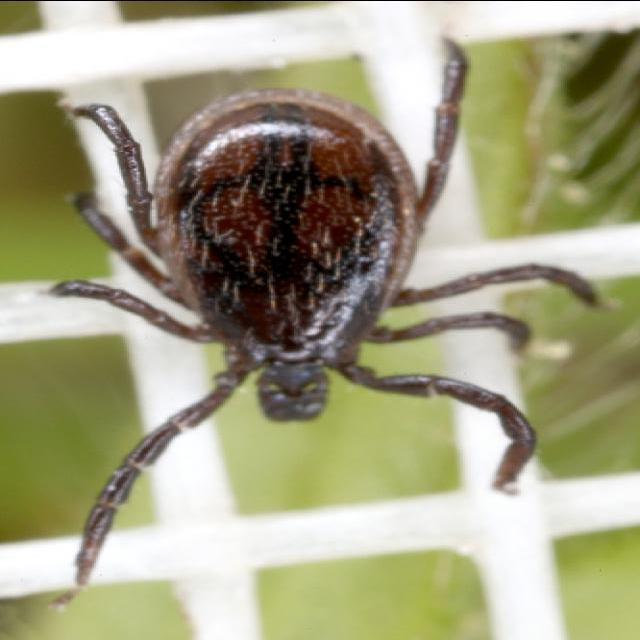Ixodes Ricinus-M: (50, 37, 603, 588)
